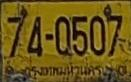0: (54, 16, 71, 54), (89, 15, 105, 55)
4: (27, 15, 42, 56)
5: (72, 15, 87, 55)
7: (7, 17, 26, 57), (106, 14, 122, 55)
BKK: (25, 63, 104, 80)
